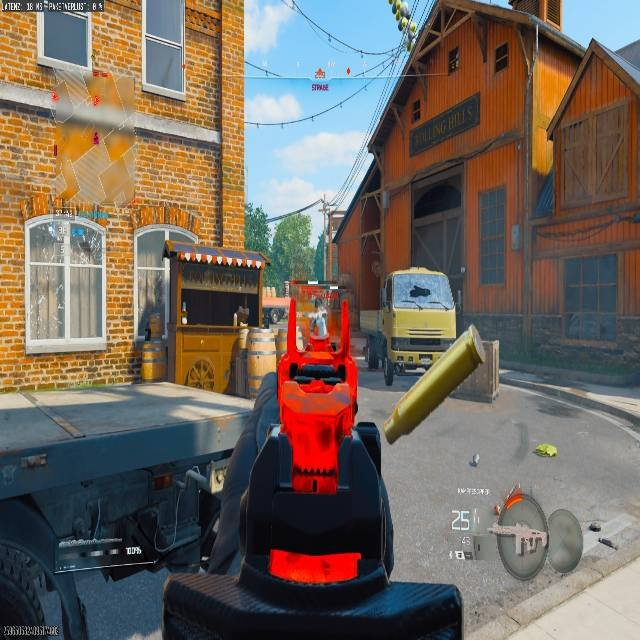player: (312, 311, 325, 336)
